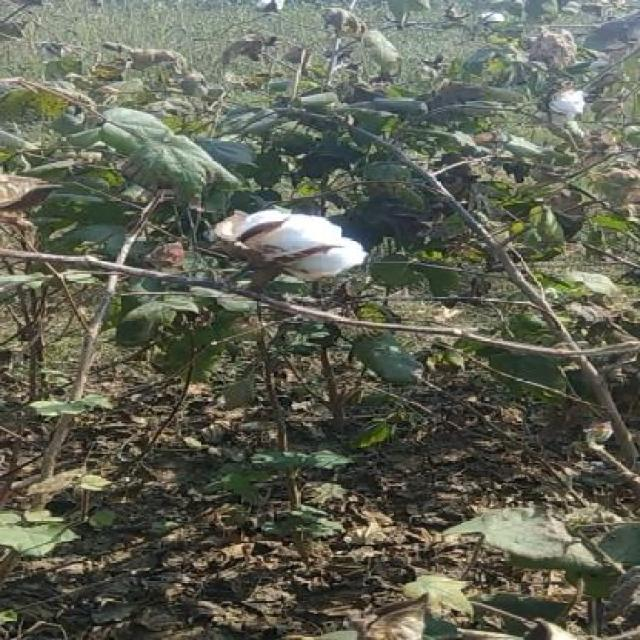cotton_ready: (189, 207, 389, 319)
